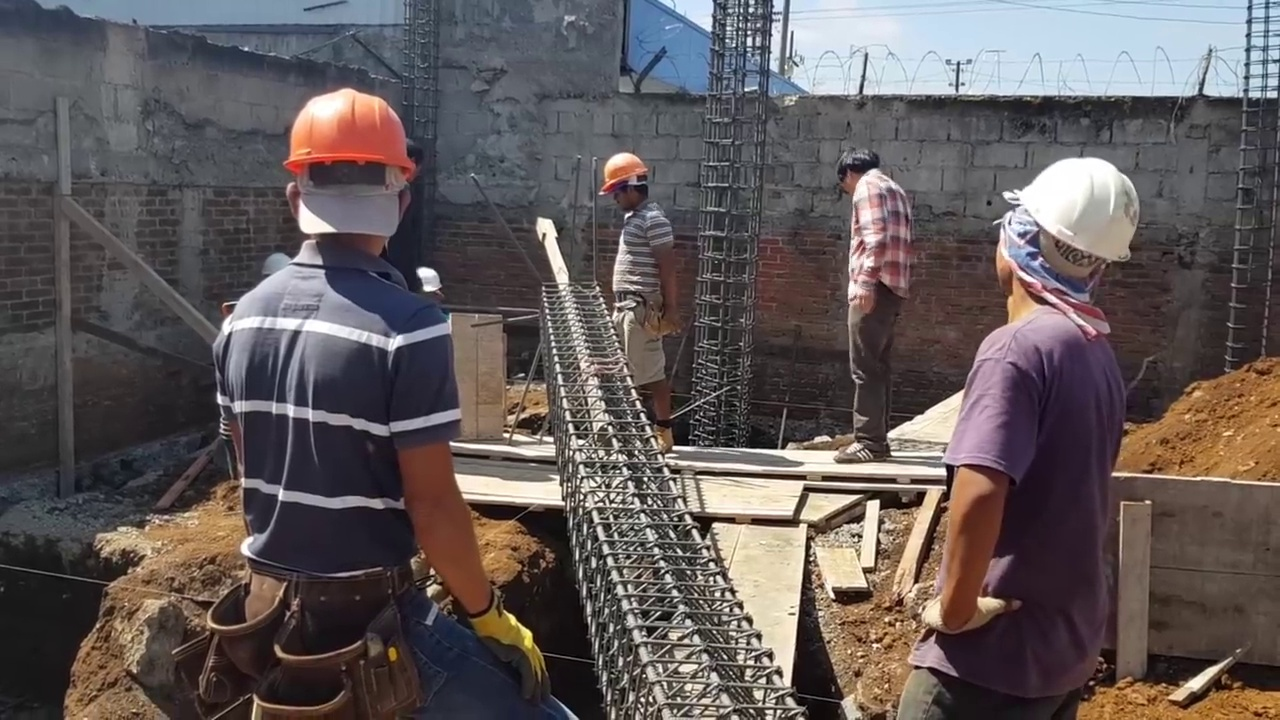helmet: (1019, 156, 1143, 272), (275, 84, 412, 182), (598, 149, 652, 194), (261, 251, 292, 279), (413, 267, 442, 294)
helmet-off: (838, 146, 884, 192)
helmet-on: (990, 152, 1143, 328), (278, 82, 423, 264), (599, 152, 650, 218)
person: (205, 76, 530, 720), (907, 149, 1143, 720), (834, 141, 920, 478), (596, 145, 687, 456)
